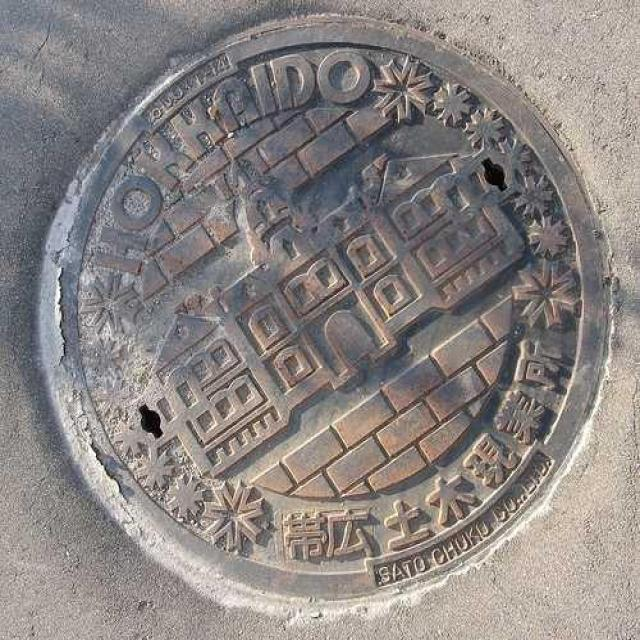manhole: (39, 16, 610, 611)
